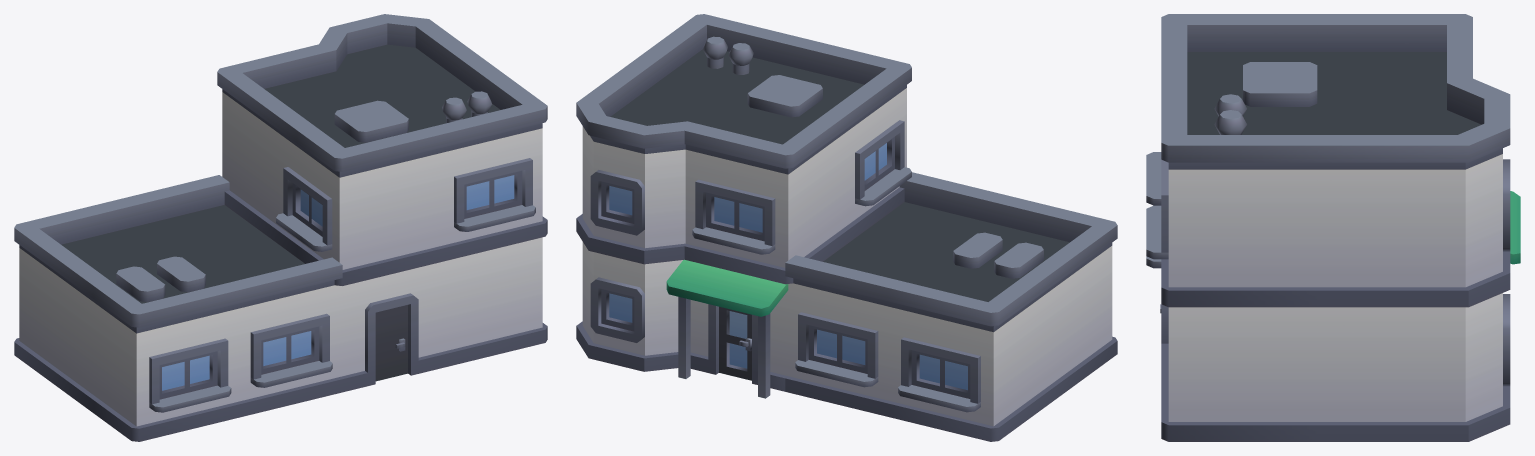
File: k-city-kit-commercial-building-e.glb
3 views of the same model, side by side, from view 1: azimuth 30°, elevation 25°; view 2: azimuth 150°, elevation 25°; view 3: azimuth 270°, elevation 25° (orthographic). The views are drawn at different scales.
Visible parts, largest first — view 1: building-e; view 2: building-e; view 3: building-e.
Part boxes in pixels (bbox=[...]): building-e: bbox=[14, 14, 547, 441]; building-e: bbox=[576, 14, 1117, 441]; building-e: bbox=[1146, 14, 1520, 441].
Size of the model in its own units: 1.64 by 0.893 by 1.01.
Materials: 1 (1 with a texture image).
